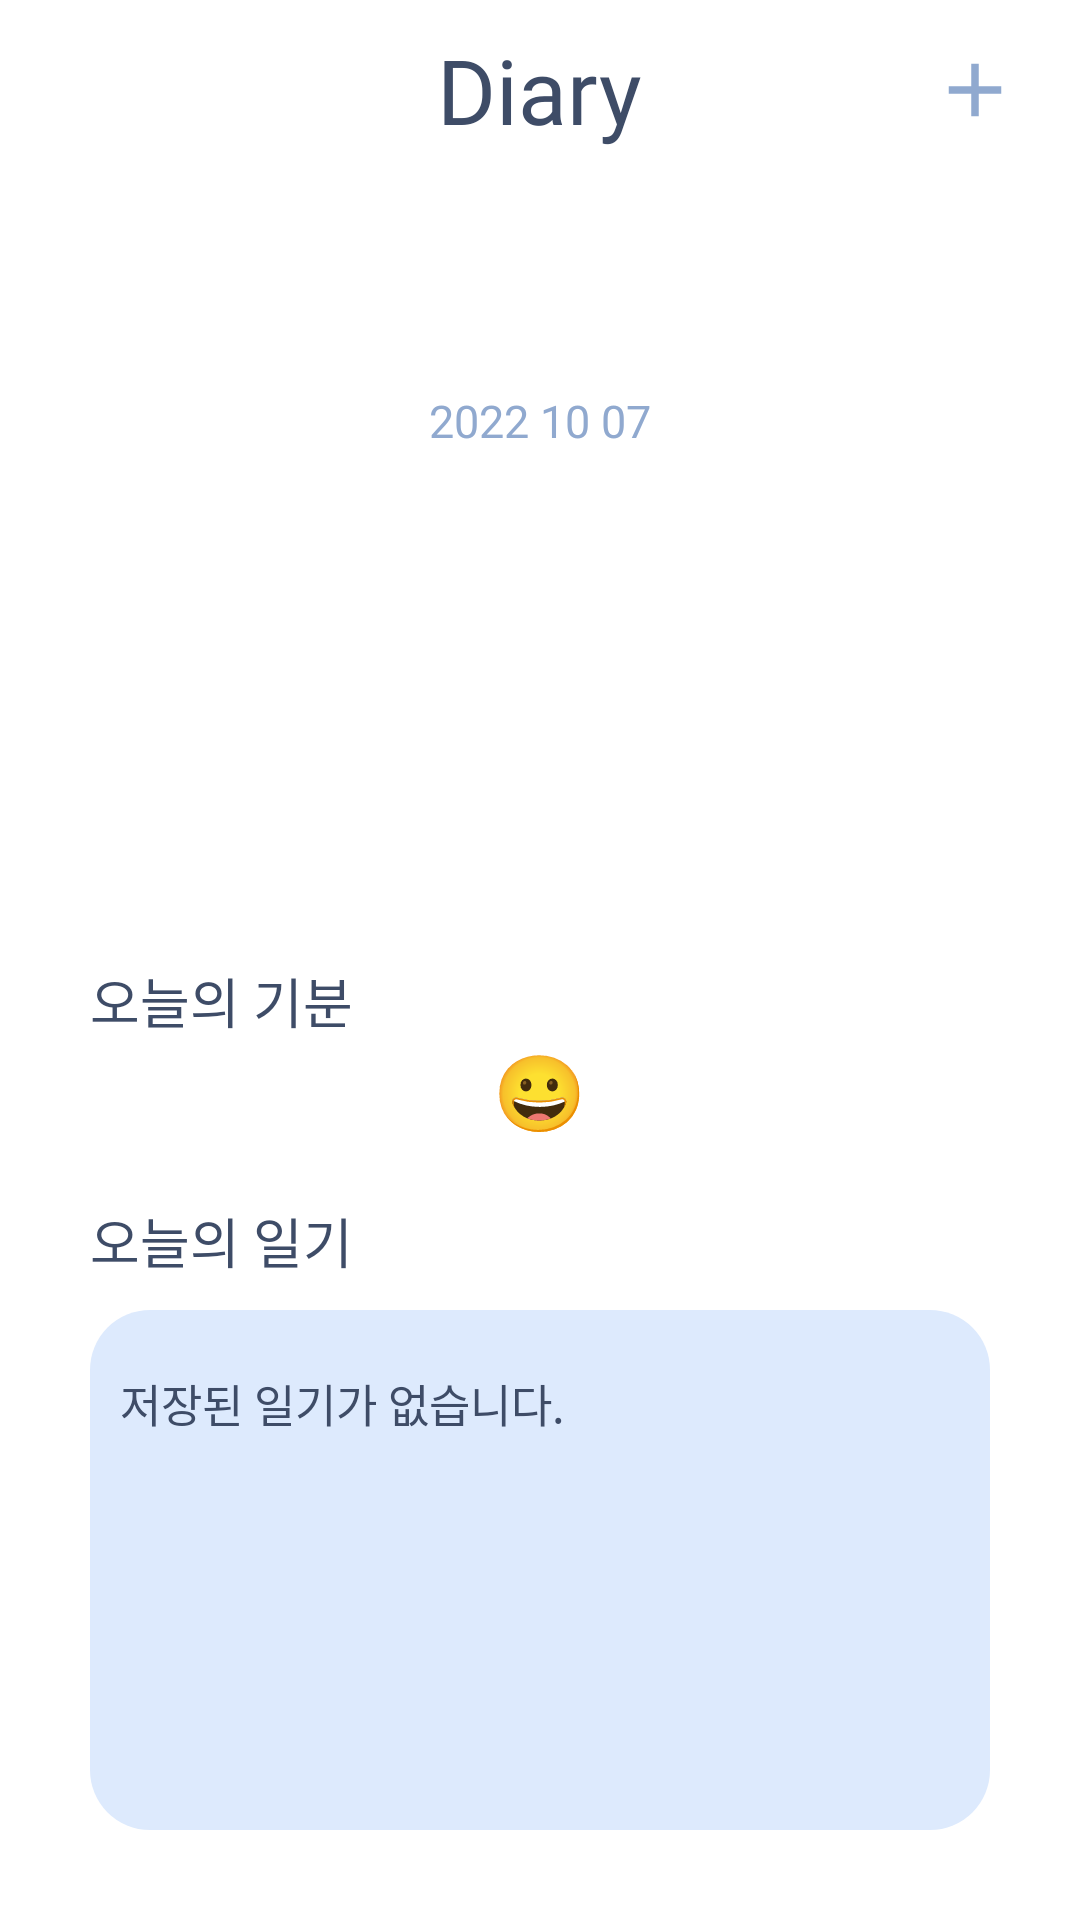

Screen size 1080px x 1920px. Icon name, then its center in pixels as [x,y]:
add: [975,90]
